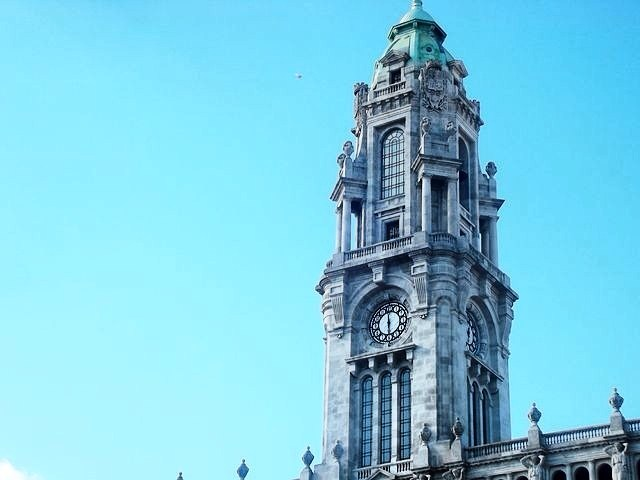camara: (177, 0, 639, 479)
